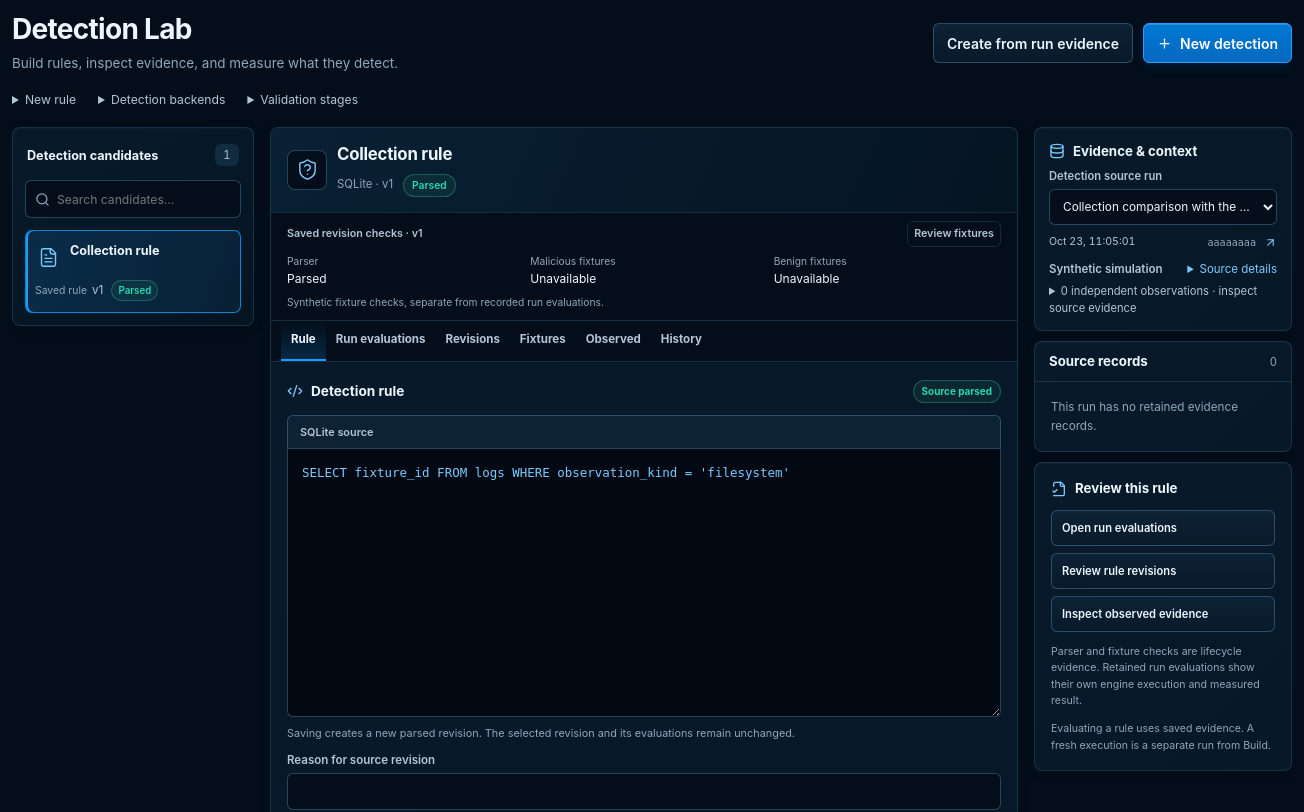
Test: distinguishes similarly named sources by their visible recorded time and run reference
Check: the text "aaaaaaaa" is shown, box [1208, 237, 1256, 248]
Select "Collection comparison with the same deliberately long descriptive source name · " in the dropdown labelled "Detection source run" at (1163, 207), box [1049, 189, 1277, 225]
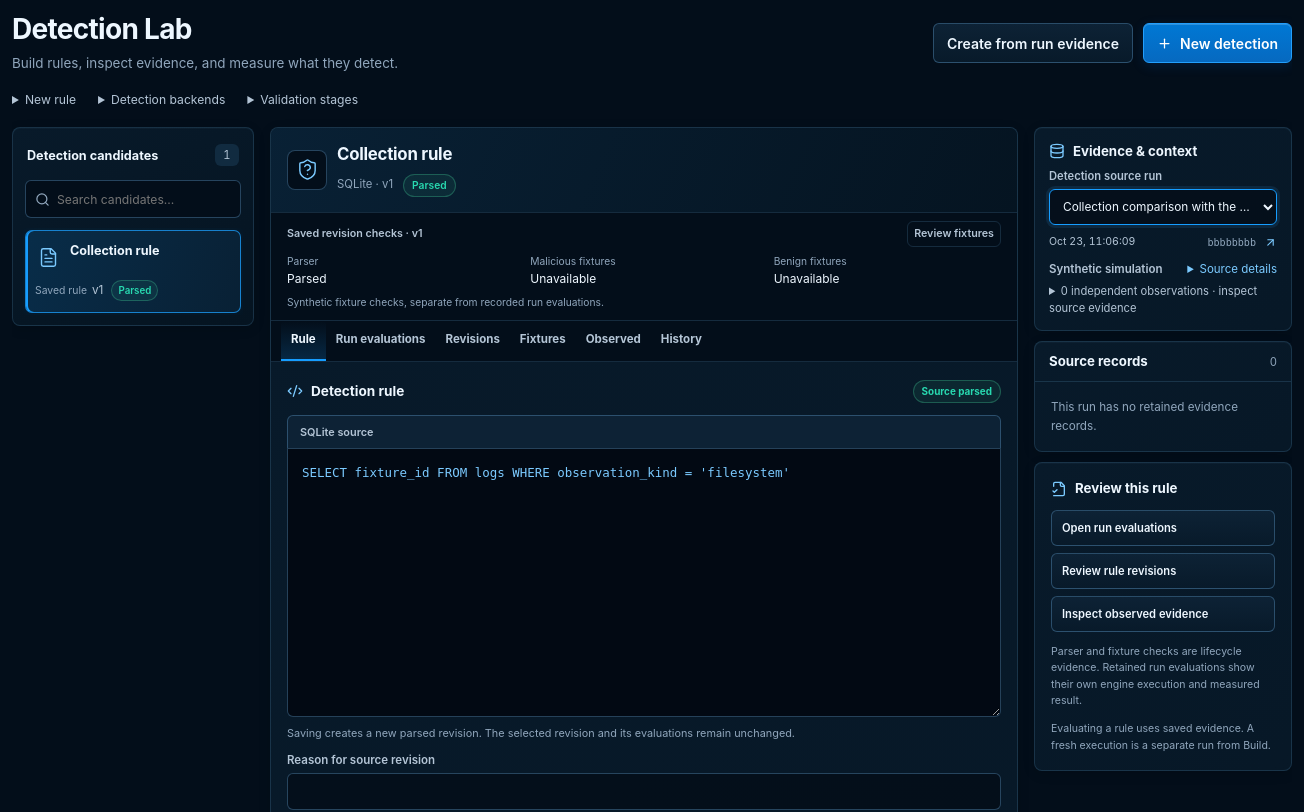
Check: the text "aaaaaaaa" is not shown
Check: the text "bbbbbbbb" is shown, box [1208, 237, 1256, 248]
